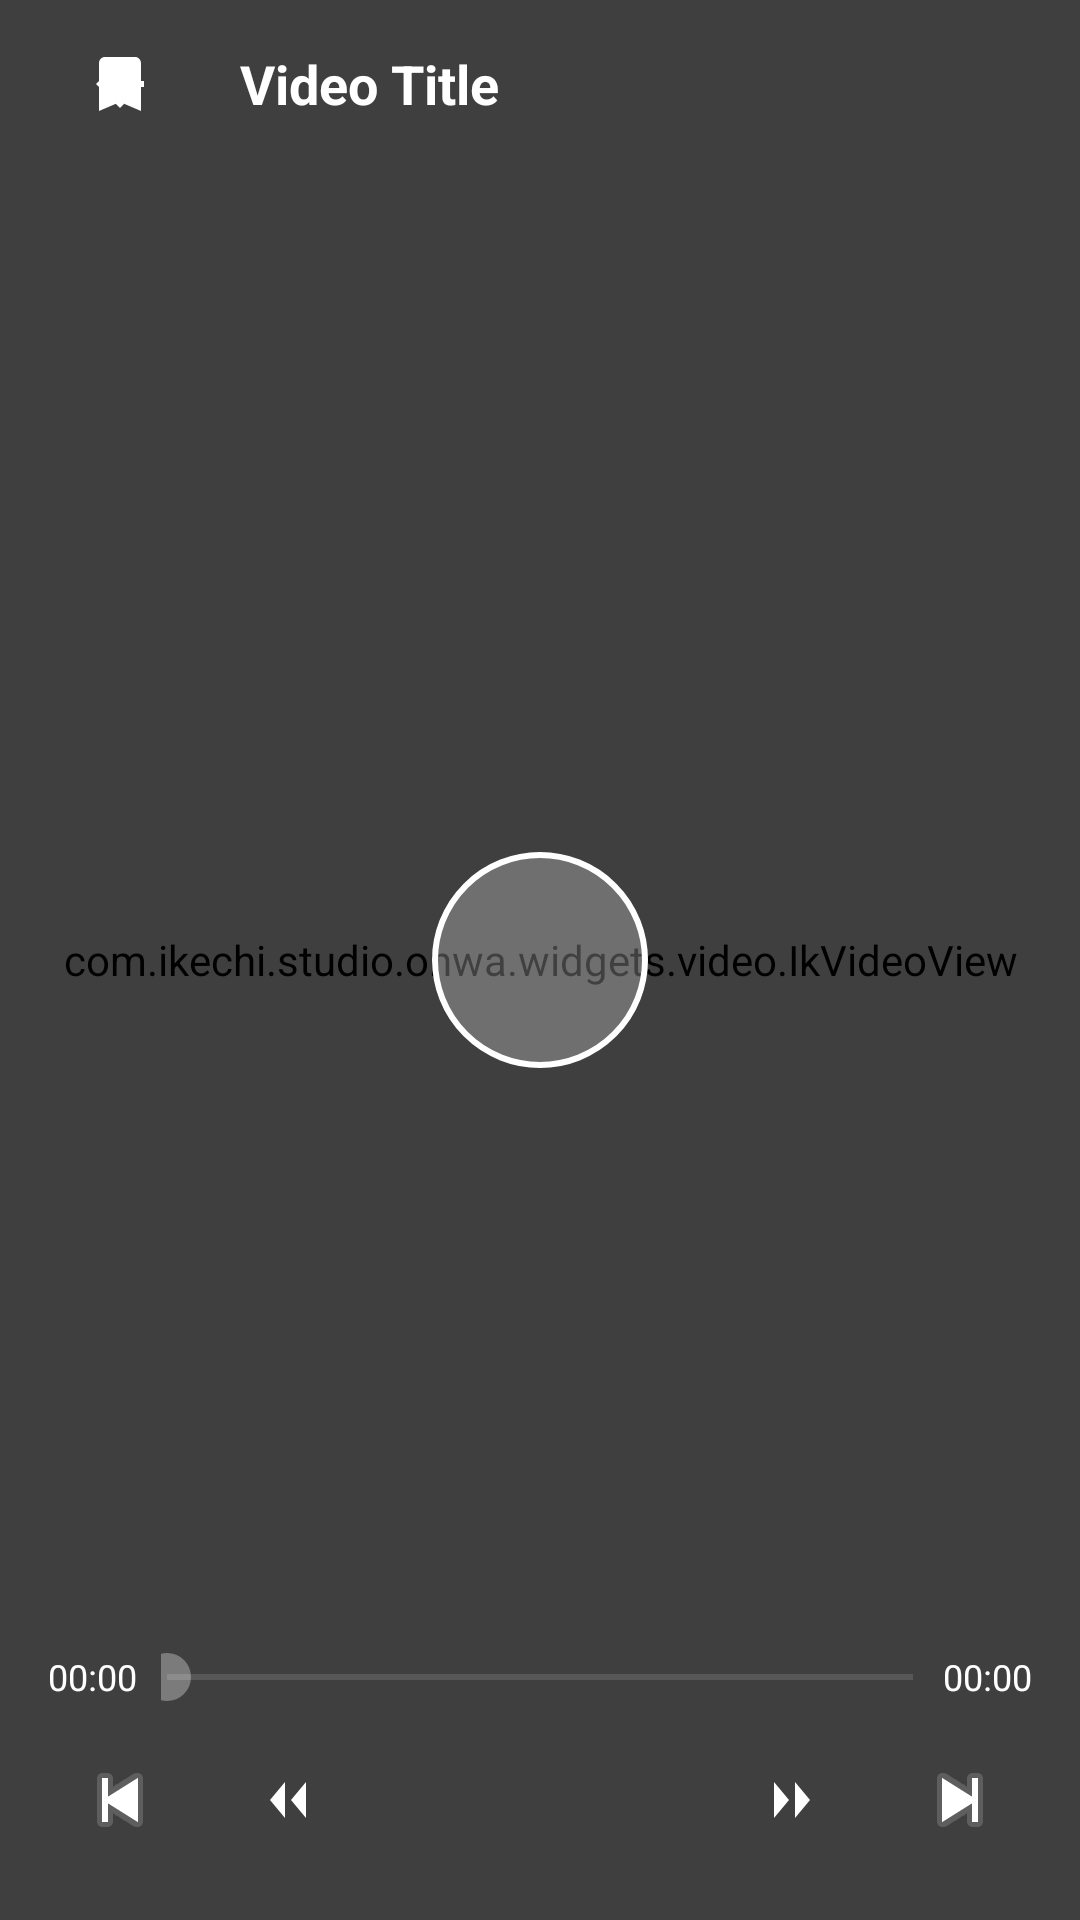

Screen size 1080x1920. Icon name, then its box in pixels as bbox=(x1, y1, x2, y2):
Next video: bbox=(937, 1773, 983, 1827)
Previous video: bbox=(97, 1773, 143, 1827)
Seek backward 1 second: bbox=(270, 1782, 306, 1818)
Seek forward 1 second: bbox=(774, 1782, 810, 1818)
